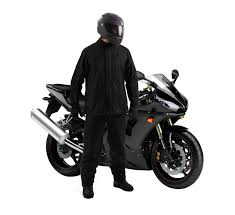helmet: (92, 10, 127, 48)
